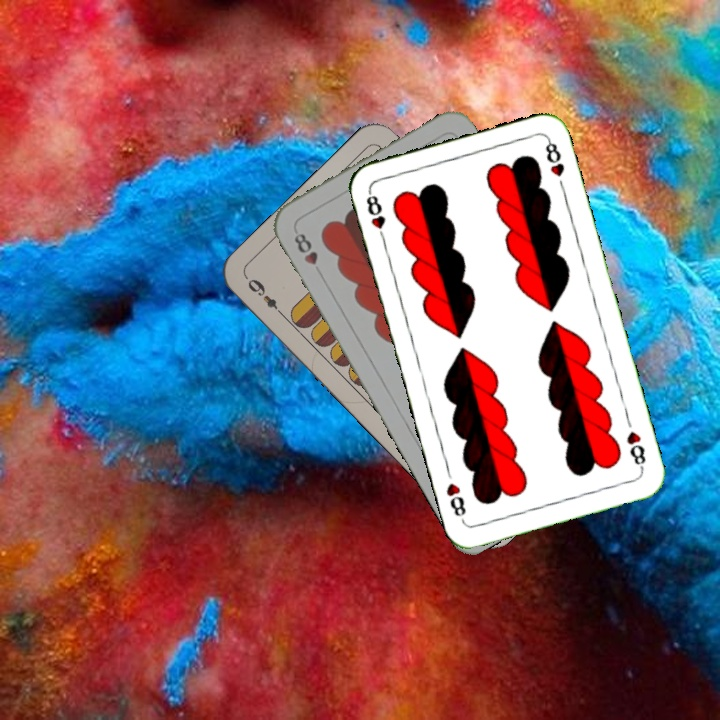E9: (243, 274, 288, 320)
H8: (290, 229, 326, 279), (362, 187, 389, 245), (622, 427, 648, 473)
